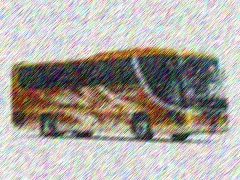bus: (12, 46, 229, 143)
